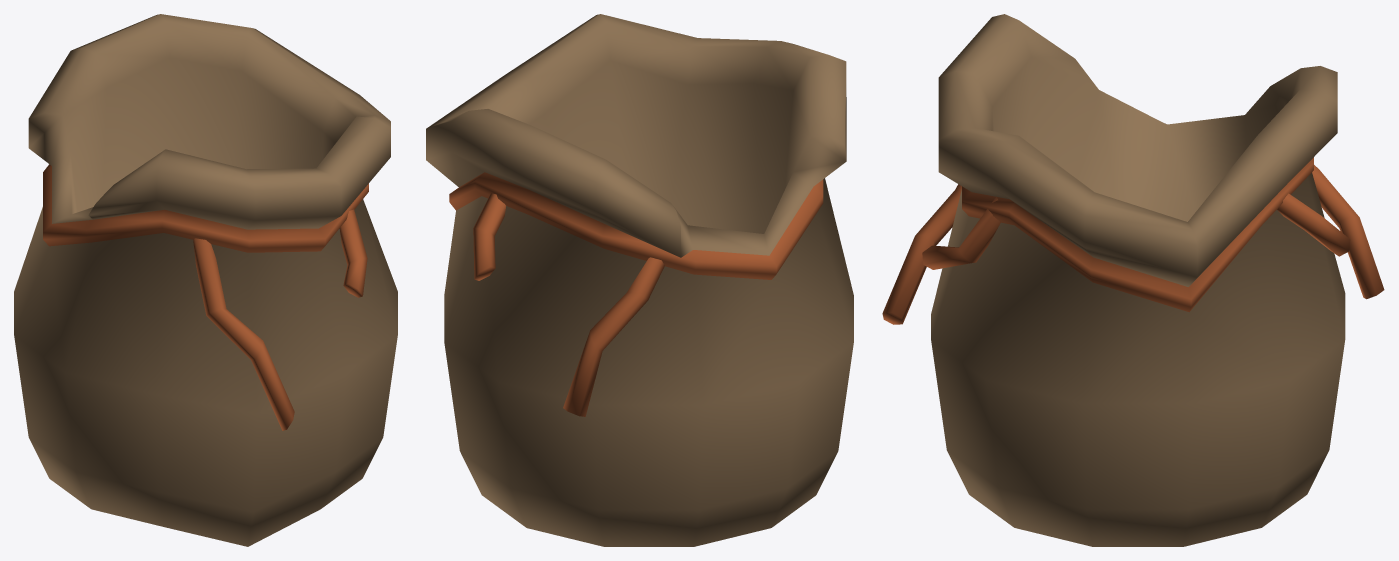
Rendered from rpgpp_av_food_container_01a.gltf.
3 views of the same model, side by side, from view 1: azimuth 30°, elevation 25°; view 2: azimuth 150°, elevation 25°; view 3: azimuth 270°, elevation 25° (orthographic). The views are drawn at different scales.
Parts seen in each view (by area): view 1: rpgpp_av_food_container_01a; view 2: rpgpp_av_food_container_01a; view 3: rpgpp_av_food_container_01a.
Part boxes in pixels (<box>): rpgpp_av_food_container_01a: <box>14,14,397,546</box>; rpgpp_av_food_container_01a: <box>426,14,853,546</box>; rpgpp_av_food_container_01a: <box>882,14,1384,546</box>.
Size of the model in its own units: 0.00495 by 0.00538 by 0.00573.
Materials: 1 (1 with a texture image).
